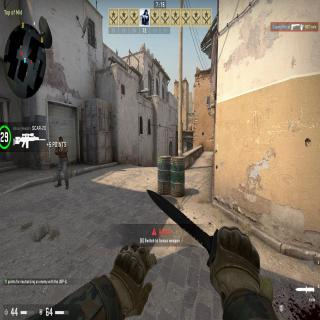T-Body: (55, 136, 69, 188)
T-Head: (59, 136, 63, 144)
